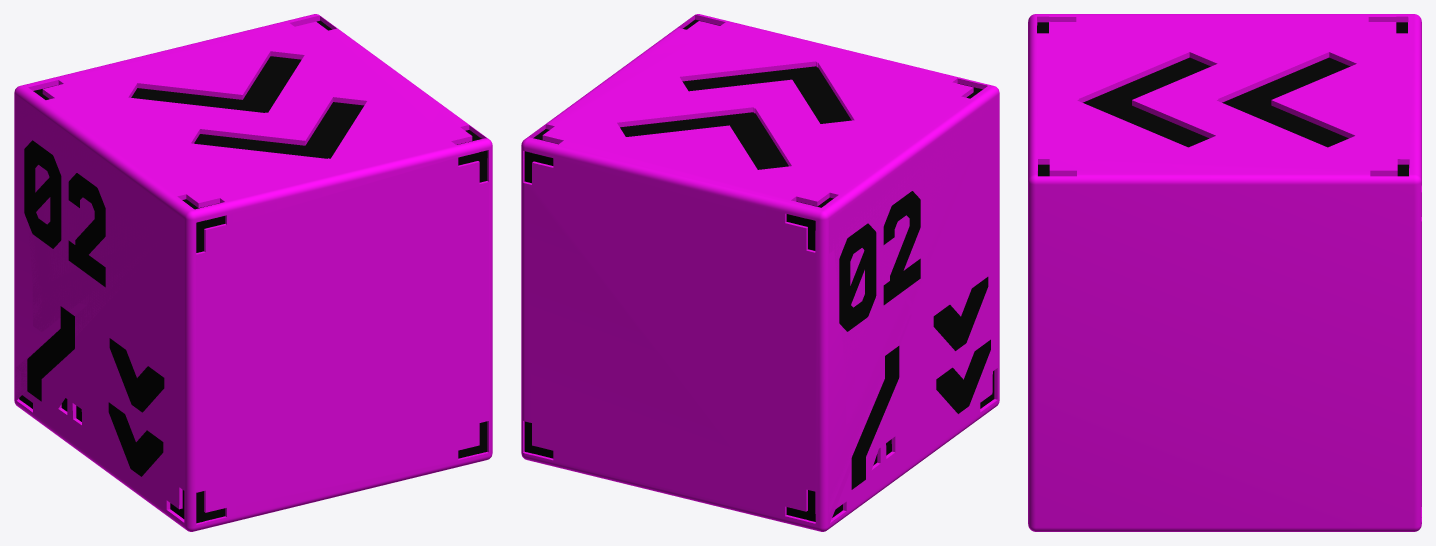
The model's file is cube_down_02.fbx.
3 renders of one model, left to right at view 1: azimuth 30°, elevation 25°; view 2: azimuth 150°, elevation 25°; view 3: azimuth 270°, elevation 25°, orthographic. The views are drawn at different scales.
Visible parts, largest first — view 1: Cube, Plane, Text.001, Text.075, Plane.002, Text.074, Text.063; view 2: Cube, Plane, Text.001, Text.075, Plane.003, Text.074, Text.063; view 3: Cube, Plane.
Boxes of the visible parts, <box> form: Cube: <box>14,14,492,531</box>; Plane: <box>33,20,481,209</box>; Text.001: <box>24,140,105,287</box>; Text.075: <box>27,306,74,401</box>; Plane.002: <box>196,150,487,523</box>; Text.074: <box>109,338,164,412</box>; Text.063: <box>108,402,163,476</box>; Cube: <box>521,14,999,531</box>; Plane: <box>533,19,982,207</box>; Text.001: <box>839,191,920,331</box>; Text.075: <box>851,346,899,489</box>; Plane.003: <box>524,151,815,521</box>; Text.074: <box>933,277,988,350</box>; Text.063: <box>936,339,990,413</box>; Cube: <box>1028,14,1421,531</box>; Plane: <box>1037,22,1408,176</box>.
Size of the model in its own units: 205 by 200 by 200.
